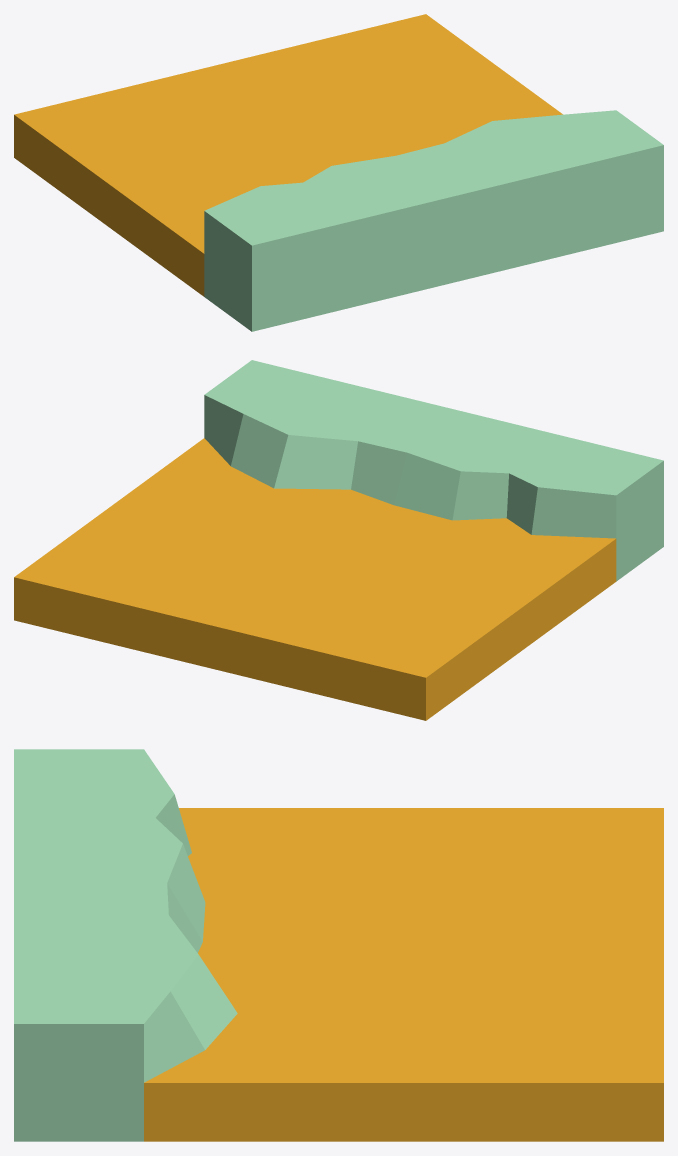
Rendered from GrassSide.fbx.
The picture shows the model from 3 angles, top to bottom: view 1: azimuth 30°, elevation 25°; view 2: azimuth 150°, elevation 25°; view 3: azimuth 270°, elevation 25°; orthographic projection. The views are drawn at different scales.
Parts seen in each view (by area): view 1: GrassSide; view 2: GrassSide; view 3: GrassSide.
Boxes of the visible parts, x1=… form: GrassSide: x1=14, y1=14, x2=663, y2=331; GrassSide: x1=14, y1=360, x2=663, y2=720; GrassSide: x1=14, y1=749, x2=663, y2=1141.
Size of the model in its own units: 200 by 40 by 200.
